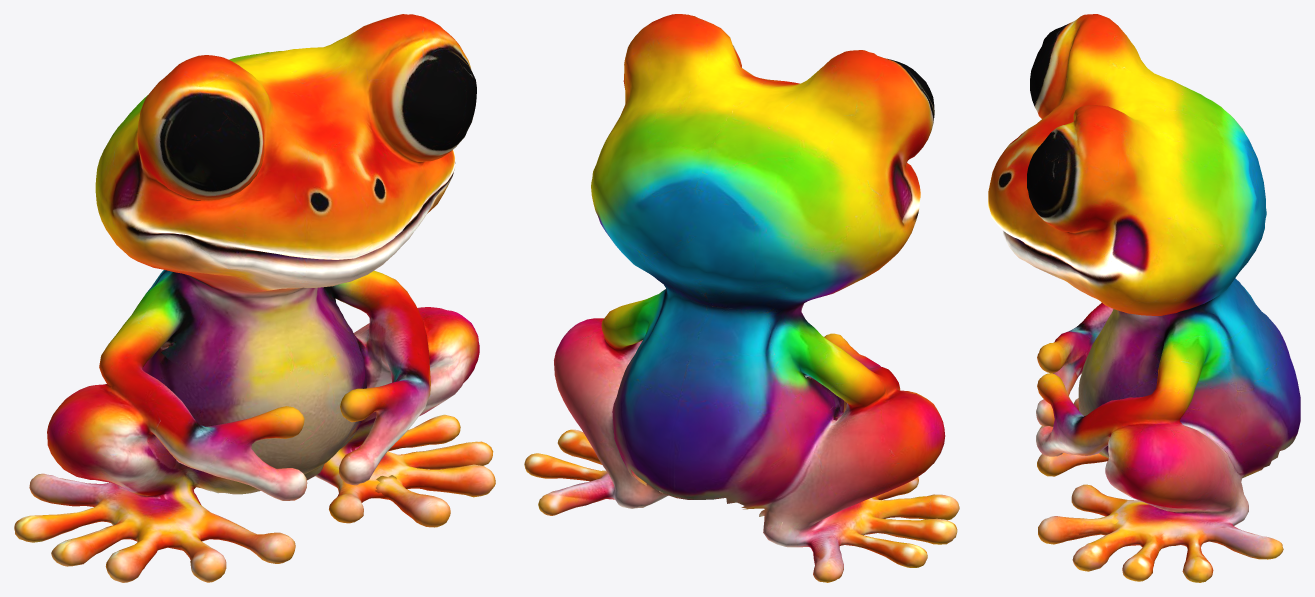
Rendered from frog_rainbow_v1.glb.
3 renders of one model, left to right at view 1: azimuth 30°, elevation 25°; view 2: azimuth 150°, elevation 25°; view 3: azimuth 270°, elevation 25°, orthographic. The views are drawn at different scales.
Bounding box in the file's own units: 1.77 × 1.9 × 1.23.
1 material, 1 textured.
